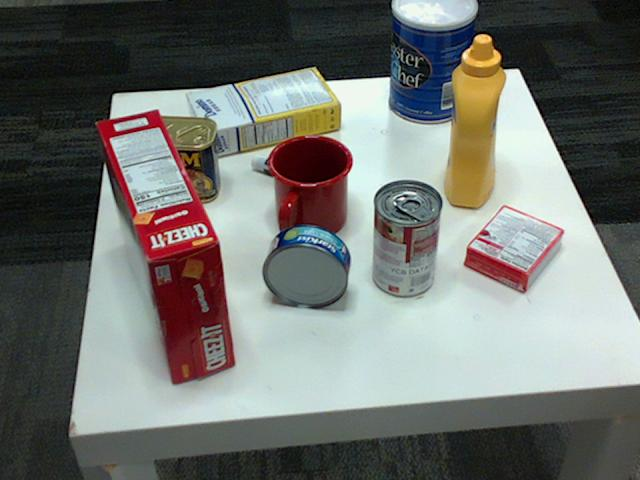cracker_box: (94, 108, 235, 381)
gelatin_box: (464, 206, 564, 292)
large_marker: (249, 156, 343, 195)
master_chef_can: (387, 0, 475, 123)
mug: (268, 131, 354, 236)
mustard_bottle: (443, 36, 506, 207)
potted_meat_can: (121, 116, 220, 202)
sugar_box: (186, 66, 342, 155)
tomato_soup_can: (372, 180, 442, 296)
tuna_fish_can: (263, 224, 352, 307)
